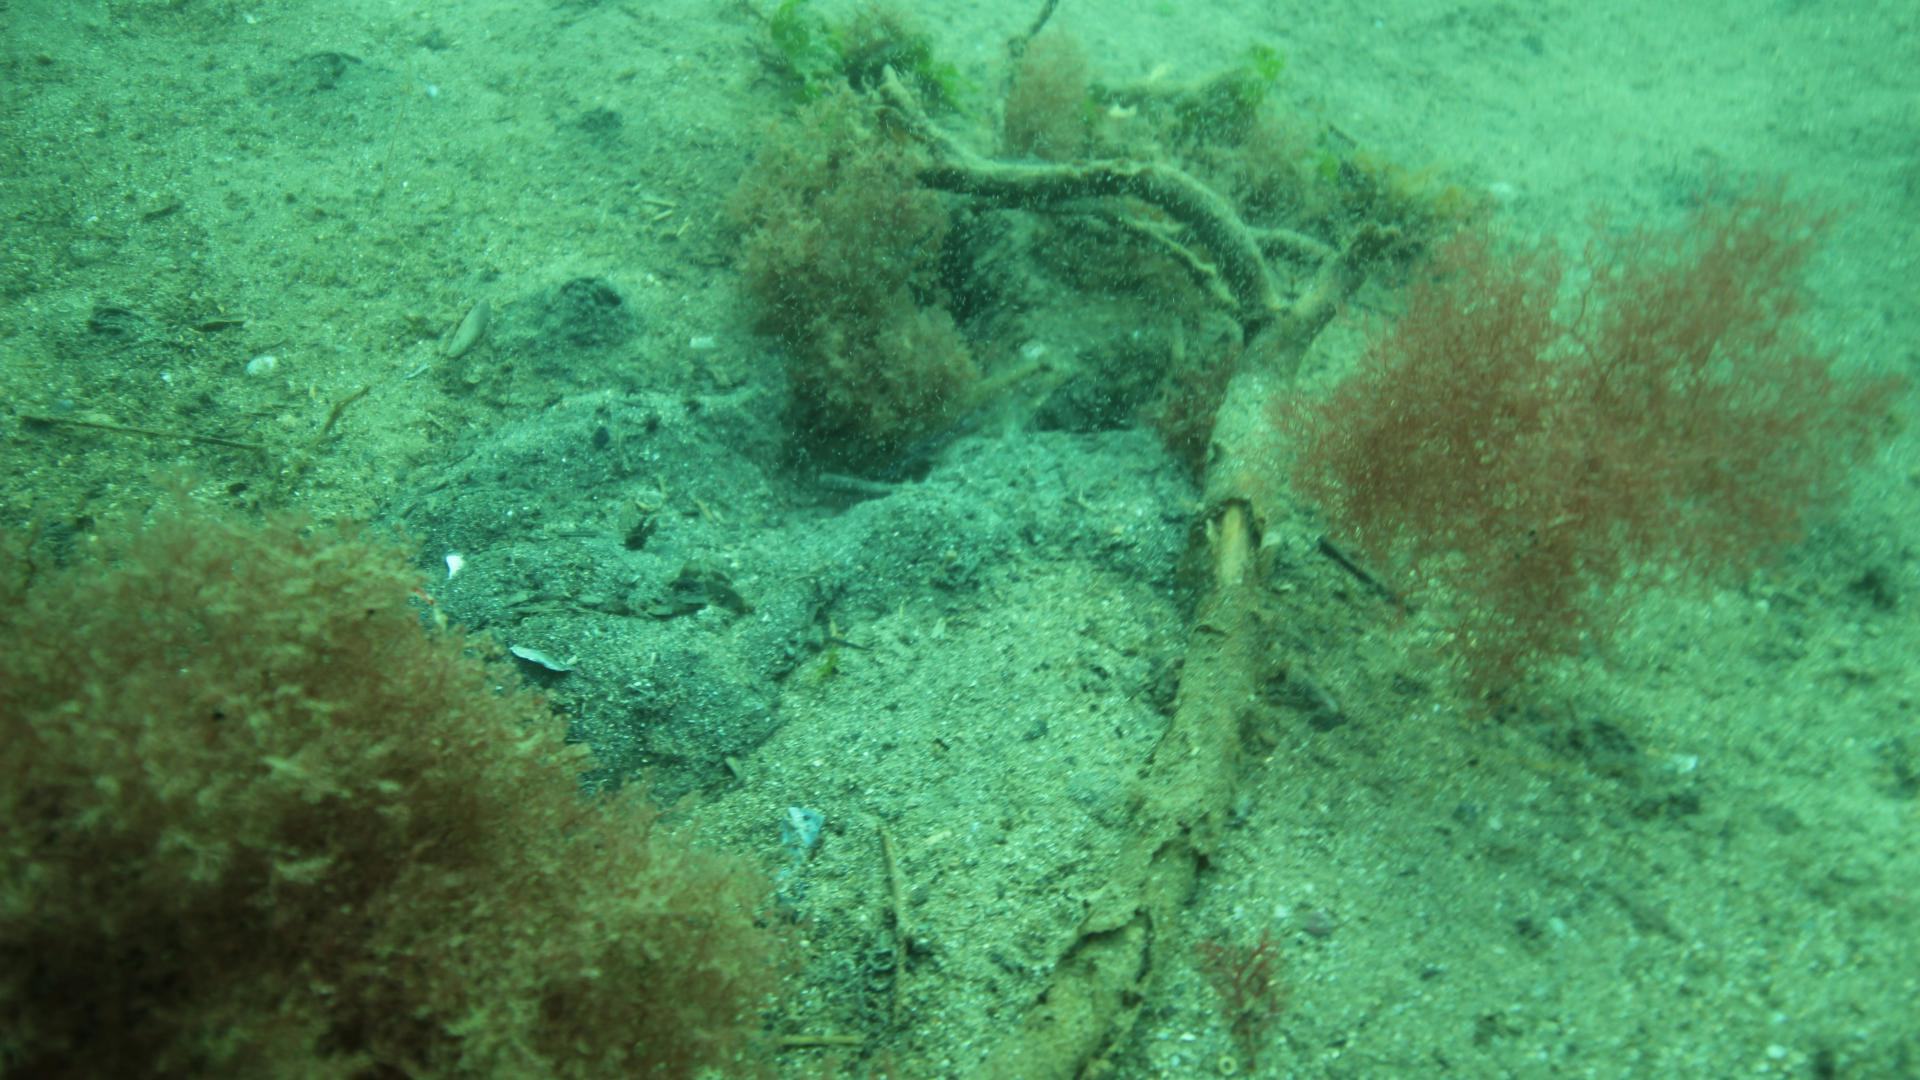wood: (884, 65, 1396, 1080)
